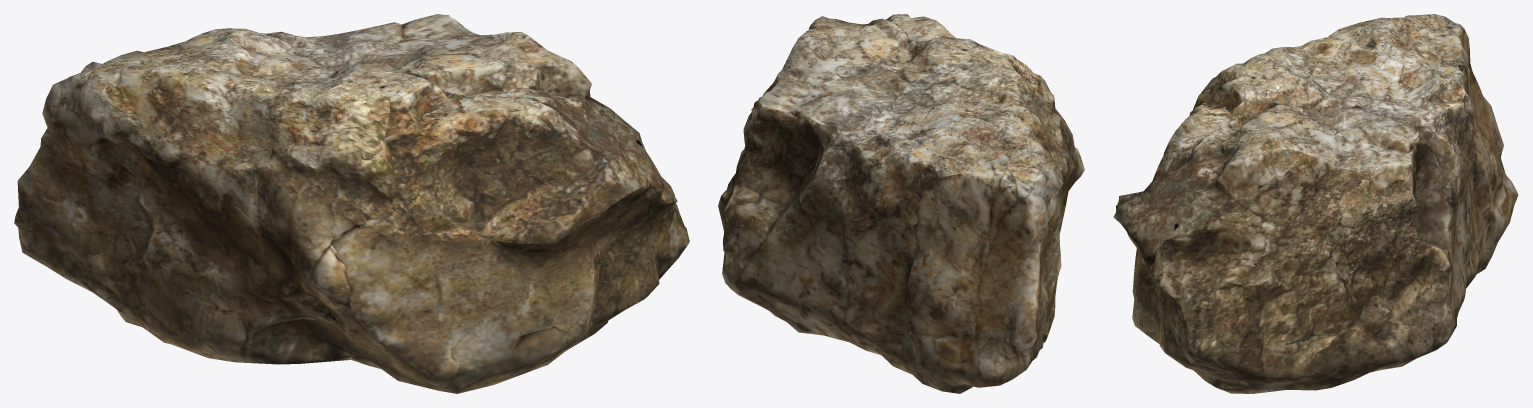
Rendered from rock.gltf.
The picture shows the model from 3 angles, left to right: view 1: azimuth 30°, elevation 25°; view 2: azimuth 150°, elevation 25°; view 3: azimuth 270°, elevation 25°; orthographic projection. The views are drawn at different scales.
Parts seen in each view (by area): view 1: rock1; view 2: rock1; view 3: rock1.
Part boxes in pixels (x1,y1,x2,y2): rock1: [14, 14, 689, 393]; rock1: [718, 14, 1084, 393]; rock1: [1113, 14, 1518, 393].
Size of the model in its own units: 4.47 by 2.33 by 3.69.
Materials: 1 (1 with a texture image).
